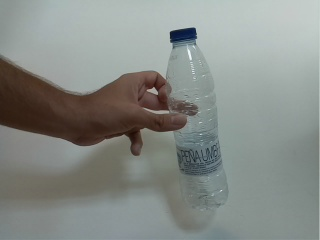botella plastico: (163, 26, 231, 212)
